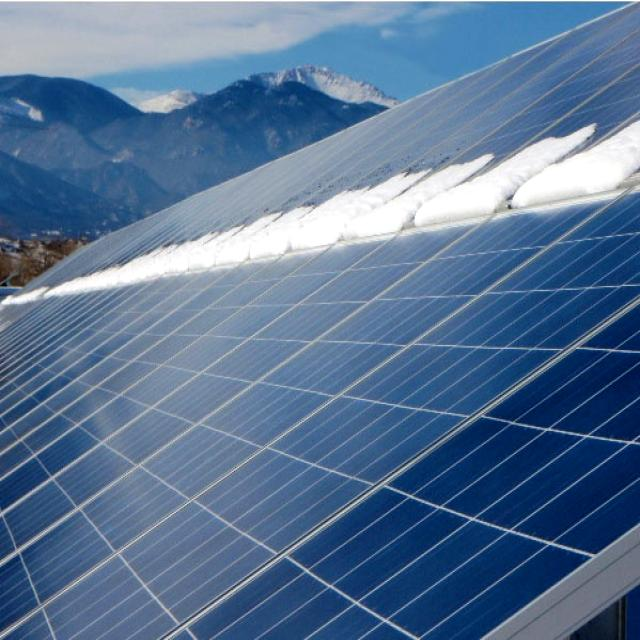panel: (364, 132, 506, 228), (503, 108, 640, 202), (240, 181, 356, 251), (110, 222, 228, 268), (2, 270, 120, 302)
